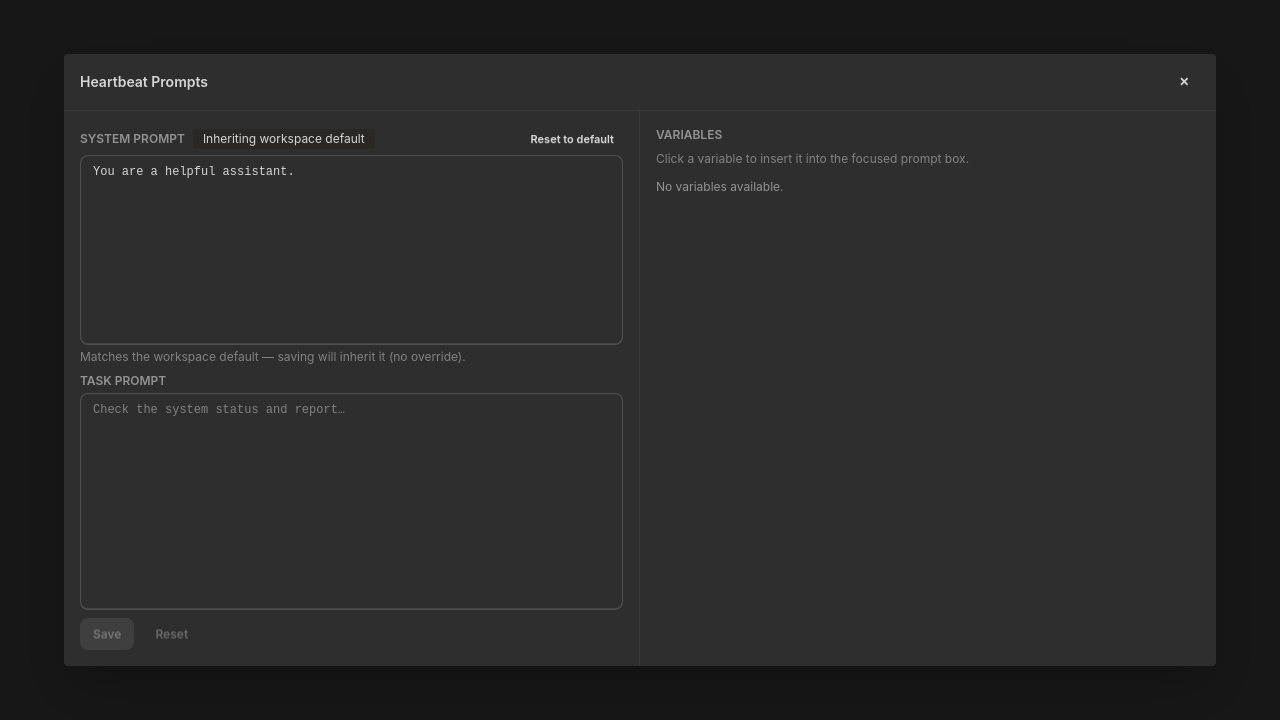
Test: PromptEditor save flow › editing the task prompt saves + clears unsaved state
This screenshot has width=1280, height=720.
Type "do the thing" into the text box named "Heartbeat task prompt" at (352, 501), box [80,392,623,610]
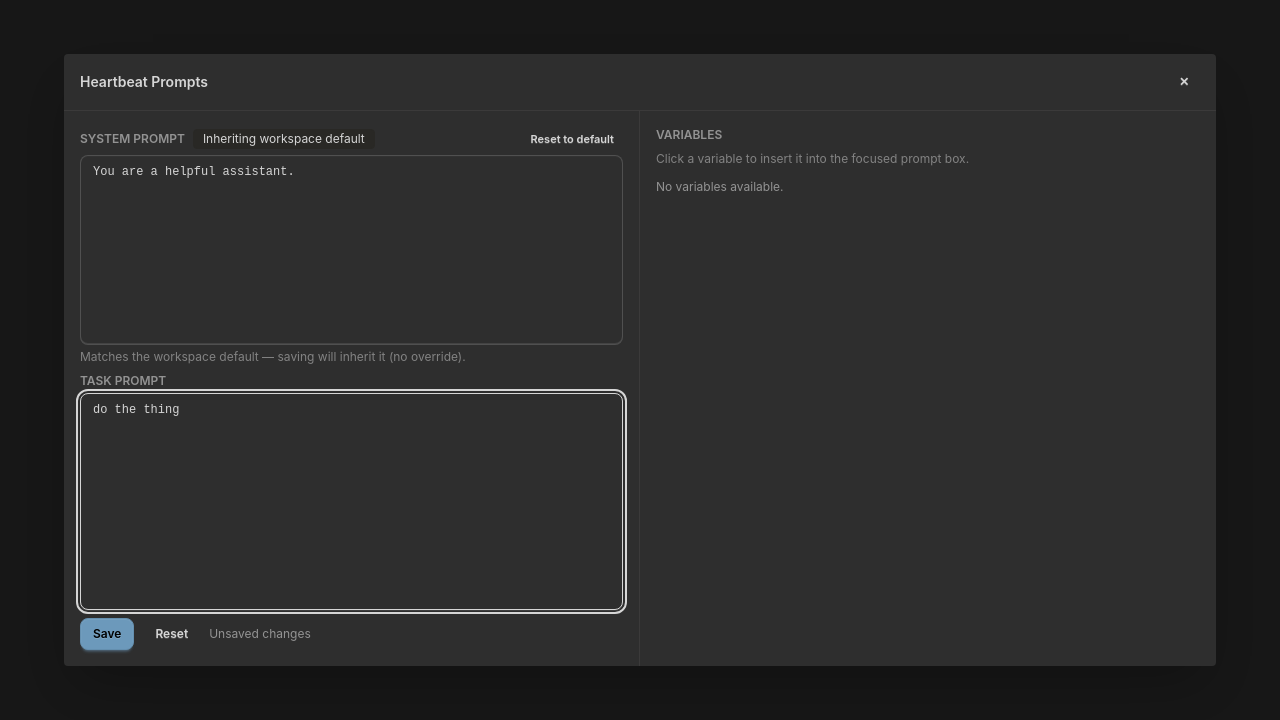
Expected: the button "Save" is enabled
Click the button "Save" at (107, 634), box [80,618,134,650]
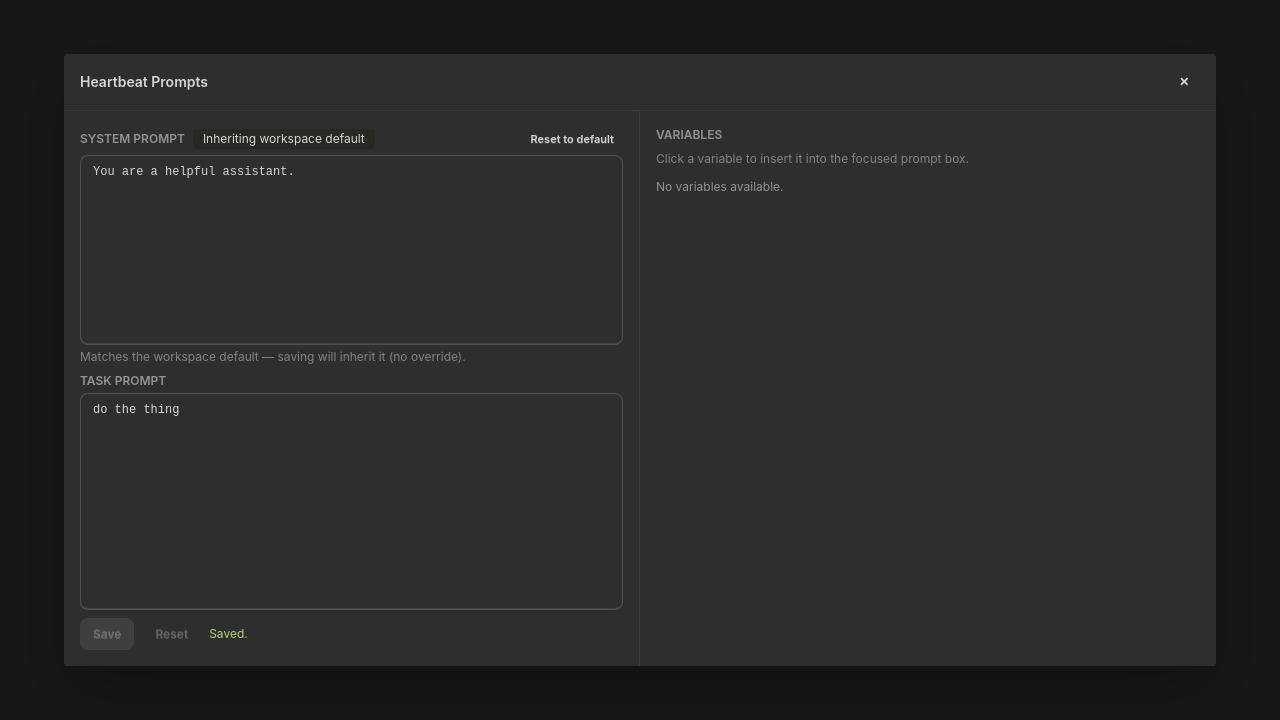
Expected: the text "Saved." is shown, [209,626,248,642]
Expected: the button "Save" is disabled, [80,618,134,650]
